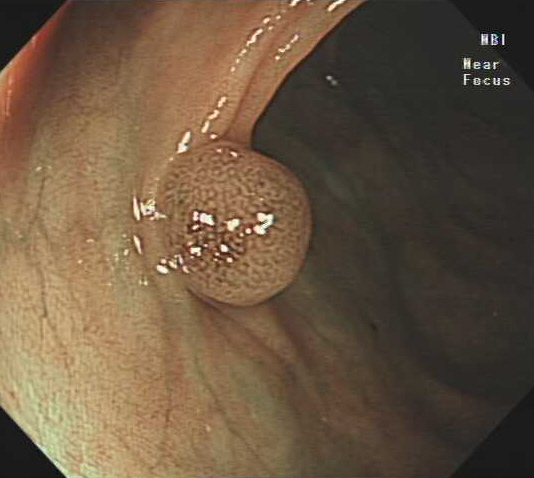others: (154, 137, 314, 310)
